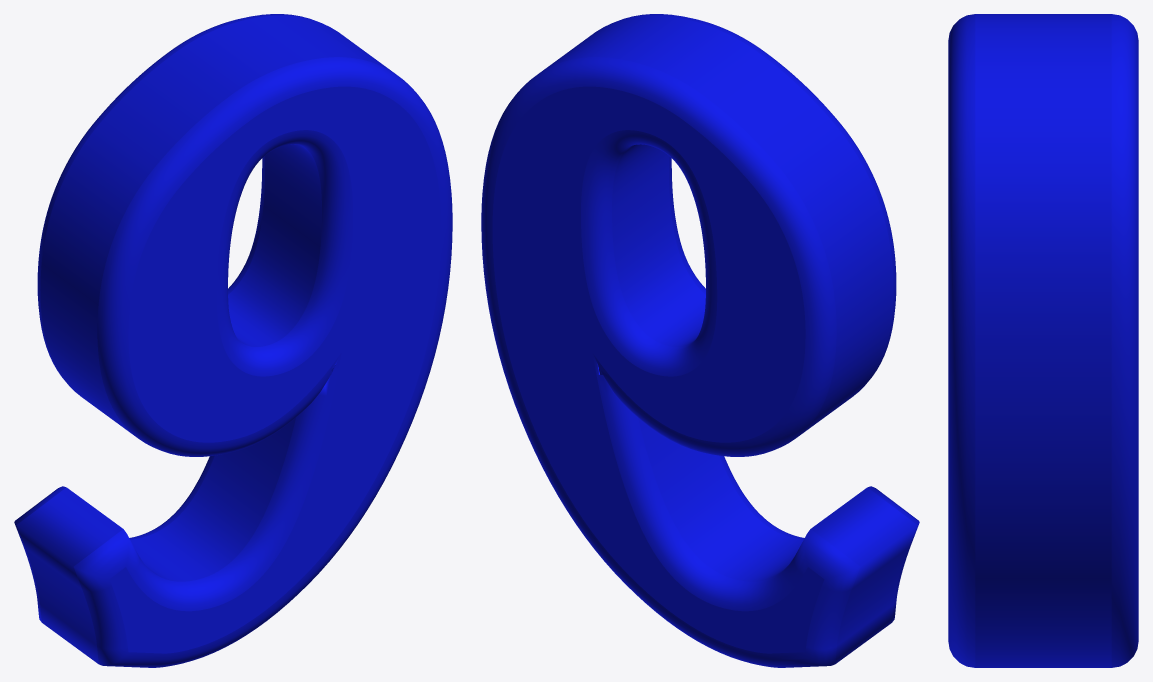
The model's file is number_9.fbx.
3 renders of one model, left to right at view 1: azimuth 30°, elevation 25°; view 2: azimuth 150°, elevation 25°; view 3: azimuth 270°, elevation 25°, orthographic. The views are drawn at different scales.
Visible parts, largest first — view 1: Text; view 2: Text; view 3: Text.
Boxes of the visible parts, box(x1,y1,x2,y2) form: Text: box(14, 14, 452, 667); Text: box(481, 14, 919, 667); Text: box(948, 14, 1138, 667).
Size of the model in its own units: 189 by 274 by 69.41.
